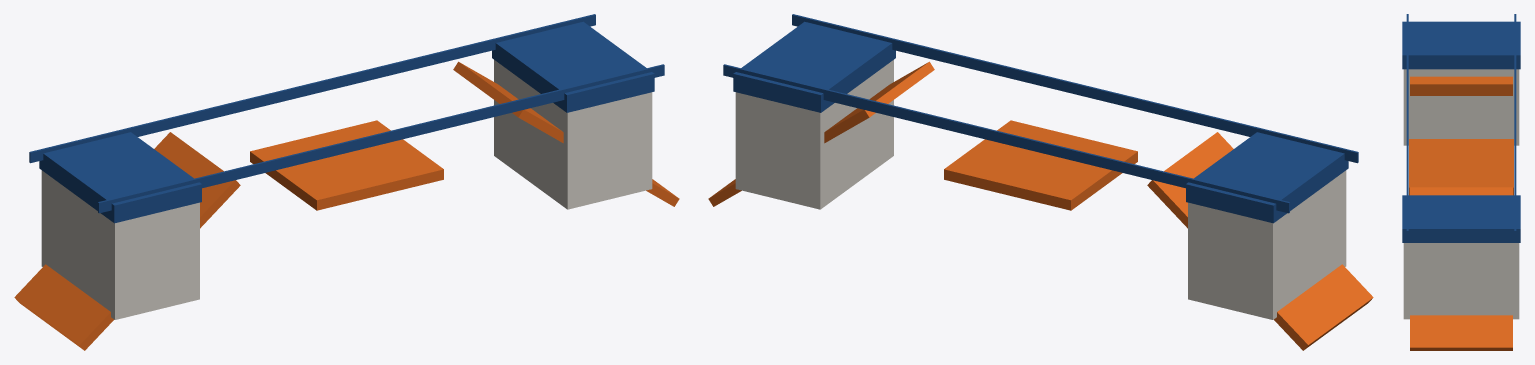
Rendered from l-fremont-bridge.glb.
The picture shows the model from 3 angles, left to right: view 1: azimuth 30°, elevation 25°; view 2: azimuth 150°, elevation 25°; view 3: azimuth 270°, elevation 25°; orthographic projection. The views are drawn at different scales.
Parts seen in each view (by area): view 1: part0, part2, part6, part1, part3, part4, part7, part8, part5; view 2: part0, part2, part6, part1, part3, part4, part8, part7, part5; view 3: part2, part0, part1, part3, part6, part5, part4, part7, part8.
Part boxes in pixels (box(x1,y1,x2,y2)): part0: box(41, 170, 199, 319); part2: box(494, 60, 652, 209); part6: box(250, 120, 443, 210); part1: box(39, 132, 201, 223); part3: box(492, 21, 654, 112); part4: box(14, 132, 240, 350); part7: box(98, 64, 664, 213); part8: box(29, 14, 595, 163); part5: box(453, 61, 679, 206); part0: box(1188, 170, 1346, 319); part2: box(735, 60, 893, 209); part6: box(944, 120, 1137, 210); part1: box(1186, 132, 1348, 223); part3: box(733, 21, 895, 112); part4: box(1147, 132, 1373, 350); part8: box(723, 64, 1289, 213); part7: box(792, 14, 1358, 163); part5: box(708, 61, 934, 206); part2: box(1403, 243, 1519, 319); part0: box(1403, 69, 1519, 145); part1: box(1402, 21, 1520, 69); part3: box(1402, 195, 1520, 242); part6: box(1409, 139, 1513, 195); part5: box(1410, 187, 1512, 350); part4: box(1410, 76, 1512, 95); part7: box(1406, 14, 1408, 239); part8: box(1514, 14, 1516, 239).
Size of the model in its own units: 42434 by 9906 by 9200.
